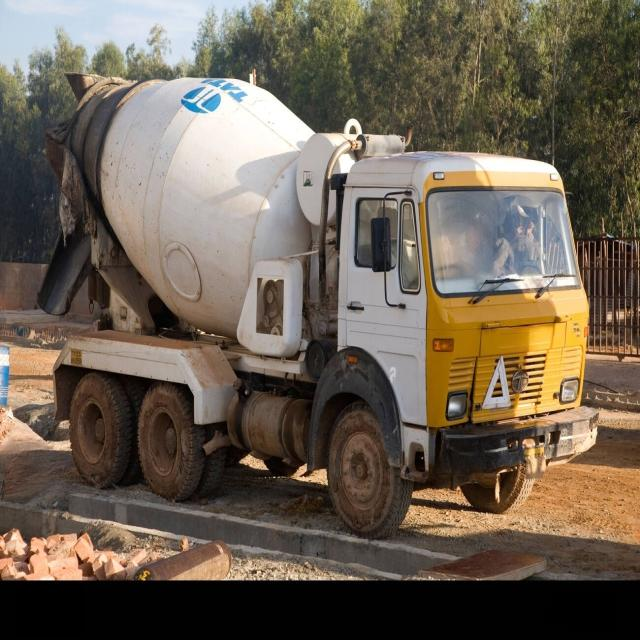truck: (39, 75, 598, 537)
